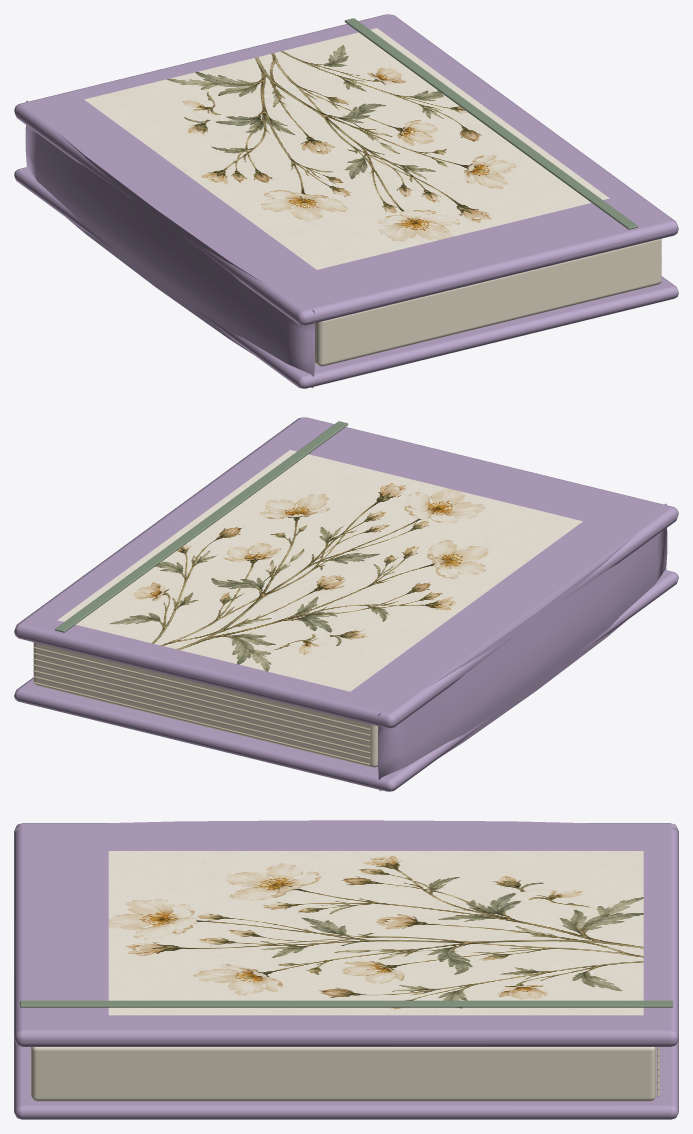
File: product-off.notebook.glb
3 views of the same model, one above another, from view 1: azimuth 30°, elevation 25°; view 2: azimuth 150°, elevation 25°; view 3: azimuth 270°, elevation 25° (orthographic). The views are drawn at different scales.
Visible parts, largest first — view 1: product-off.notebook; view 2: product-off.notebook; view 3: product-off.notebook.
Boxes of the visible parts, x1,y1,x2,y2 form: product-off.notebook: (14, 14, 678, 388); product-off.notebook: (14, 417, 678, 791); product-off.notebook: (14, 820, 678, 1119).
Size of the model in its own units: 0.346 by 0.071 by 0.45.
Materials: 5 (3 with a texture image).
